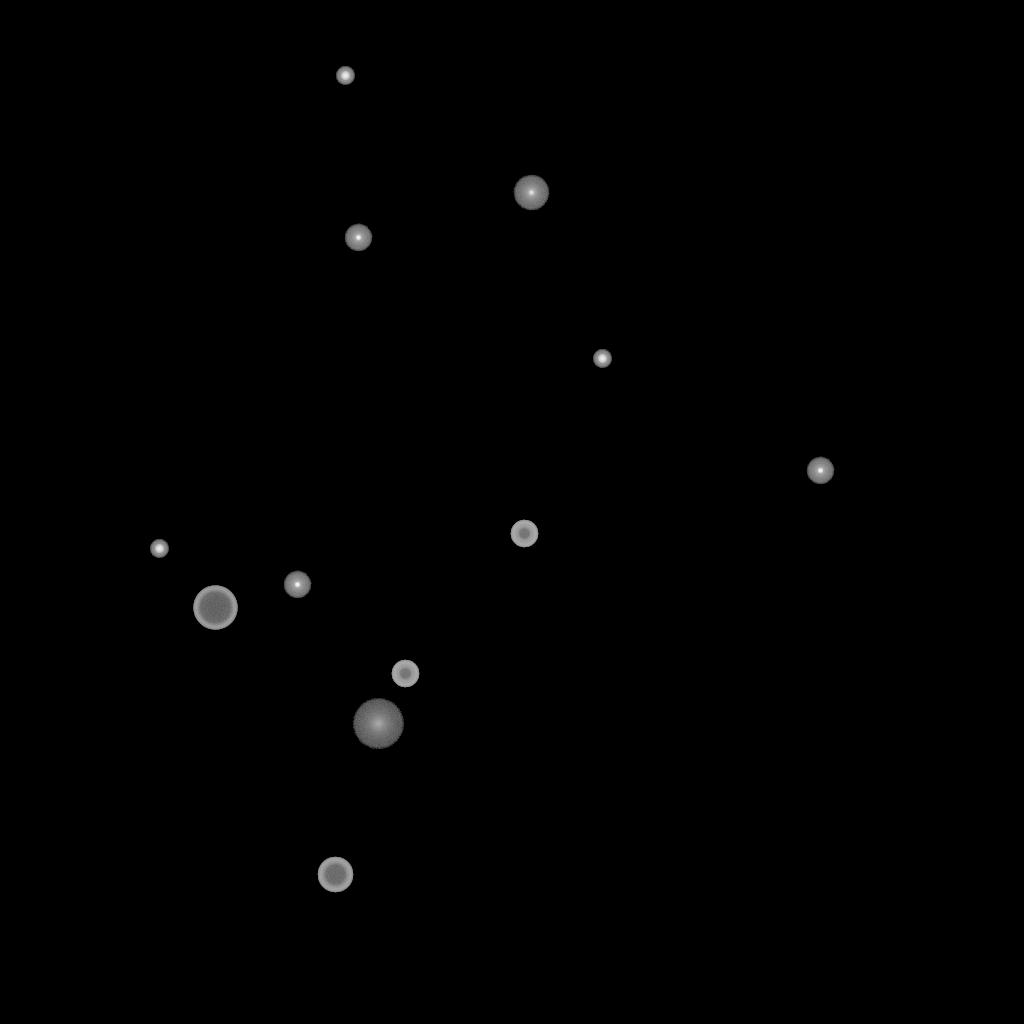depth:-10: (344, 224, 372, 252), (283, 571, 311, 599), (806, 457, 834, 485)
depth:-20: (150, 540, 168, 558), (336, 67, 354, 85), (593, 350, 611, 368)
depth:-50: (391, 660, 419, 688), (510, 520, 538, 548)
depth:-60: (317, 857, 353, 893)
depth:-70: (193, 586, 237, 630)
depth:0: (513, 175, 549, 211)
depth:20: (352, 699, 404, 749)
